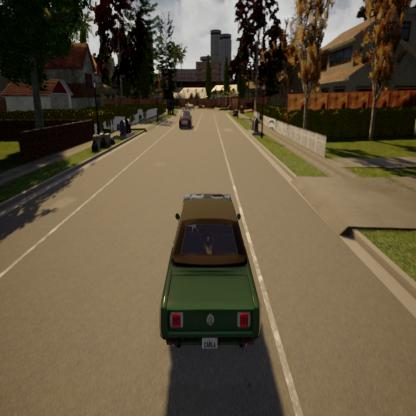Cars: (160, 192, 260, 355), (180, 107, 192, 130)
